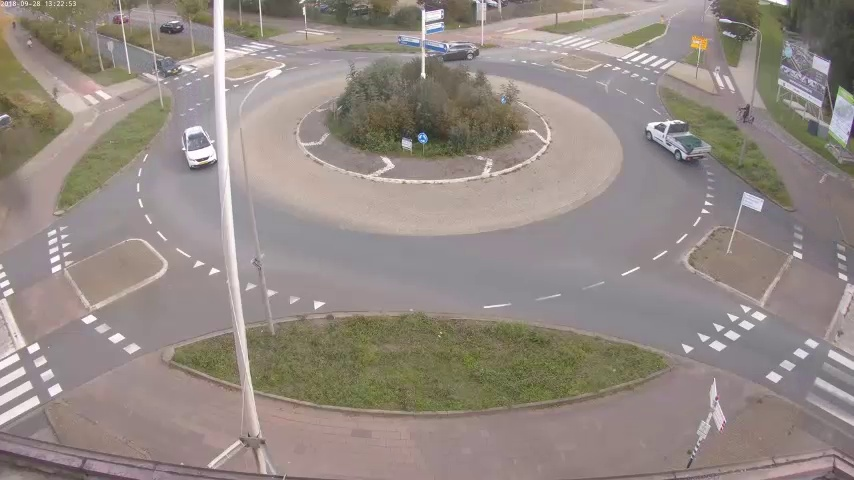bicycle: (738, 102, 761, 126)
car: (644, 116, 711, 162), (180, 122, 217, 168), (434, 40, 481, 64), (159, 20, 185, 34), (112, 12, 131, 30)
